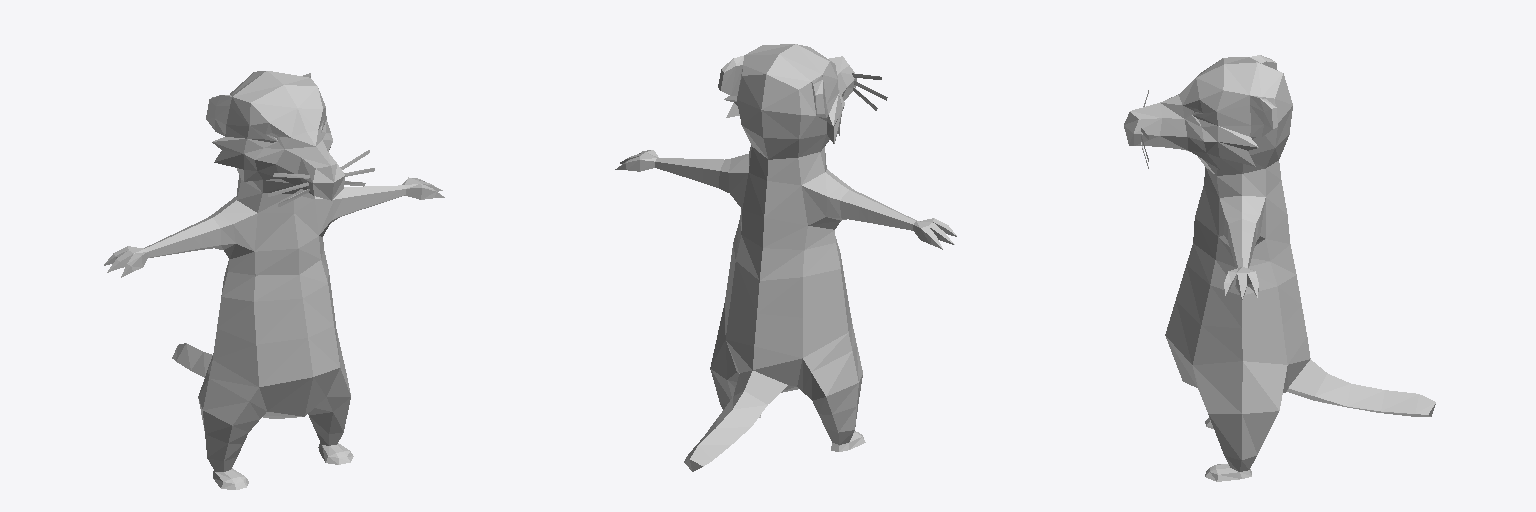
File: meerkat rotated.obj
3 renders of one model, left to right at view 1: azimuth 30°, elevation 25°; view 2: azimuth 150°, elevation 25°; view 3: azimuth 270°, elevation 25°, orthographic.
Parts seen in each view (by area): view 1: Cube_Cube.001; view 2: Cube_Cube.001; view 3: Cube_Cube.001.
Boxes of the visible parts, x1,y1,x2,y2 form: Cube_Cube.001: [104, 71, 444, 489]; Cube_Cube.001: [615, 44, 956, 471]; Cube_Cube.001: [1124, 55, 1435, 481].
Bounding box in the file's own units: 8.78 × 9.64 × 7.06.